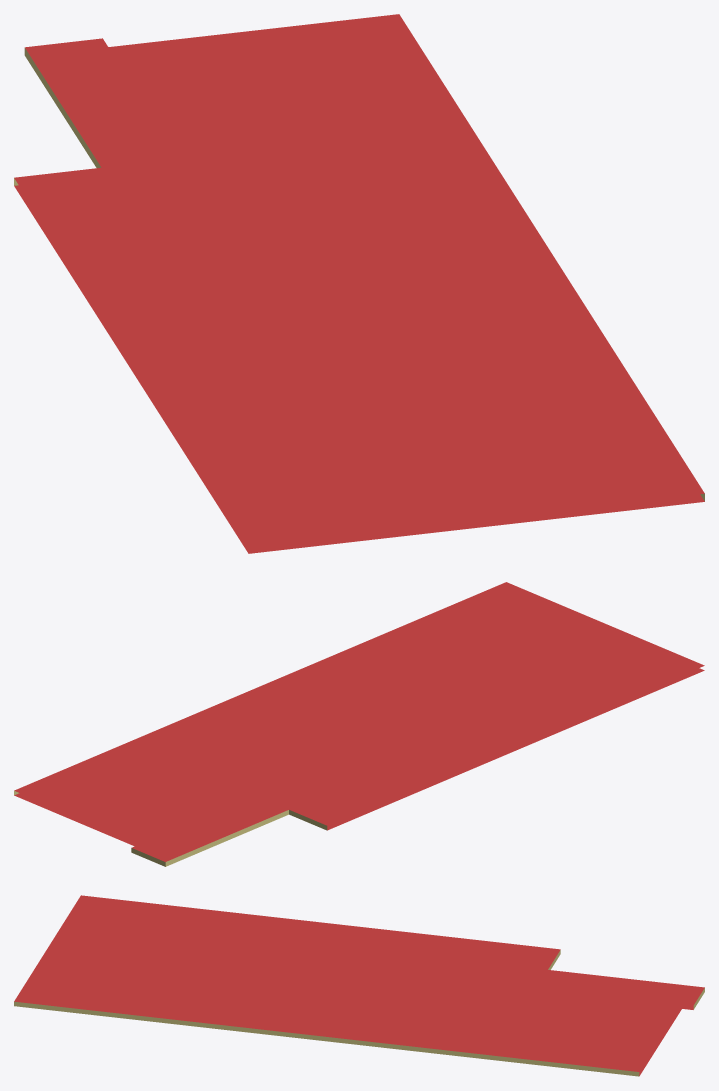
3 views of the same model, one above another, from view 1: azimuth 30°, elevation 25°; view 2: azimuth 150°, elevation 25°; view 3: azimuth 270°, elevation 25° (orthographic). The views are drawn at different scales.
Size of the model in its own units: 8.41 by 13.9 by 0.1.
